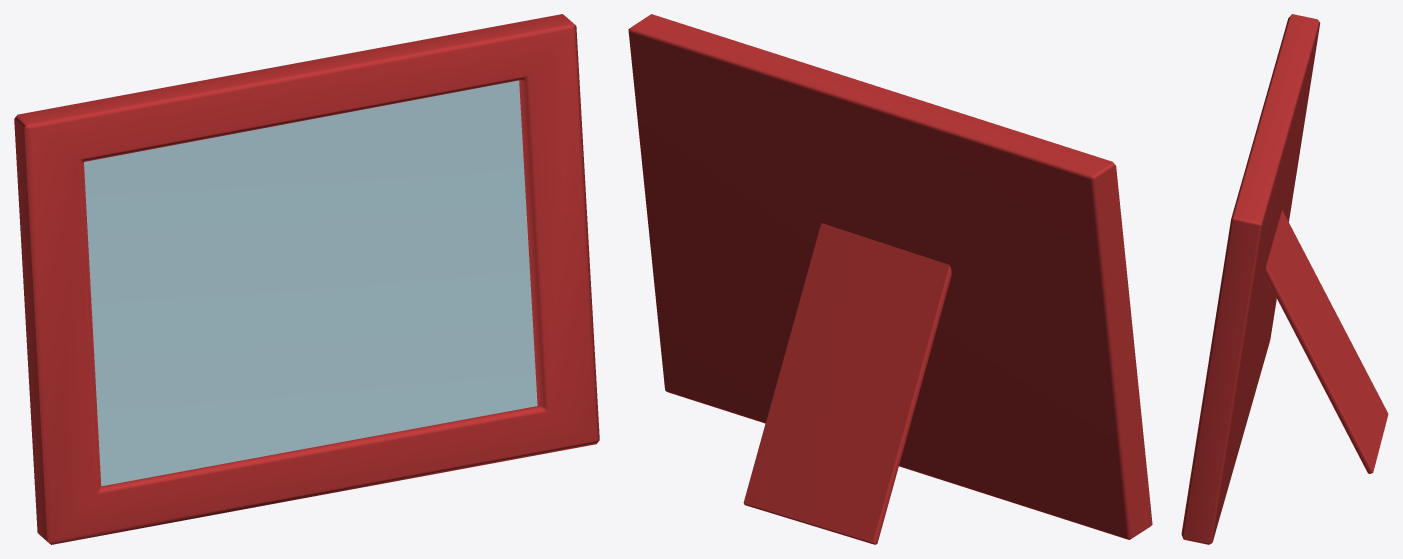
The model's file is Photoframe_3.glb.
The picture shows the model from 3 angles, left to right: view 1: azimuth 30°, elevation 25°; view 2: azimuth 150°, elevation 25°; view 3: azimuth 270°, elevation 25°; orthographic projection. The views are drawn at different scales.
Parts seen in each view (by area): view 1: Photoframe_3; view 2: Photoframe_3; view 3: Photoframe_3.
Part boxes in pixels (<box>): Photoframe_3: <box>14,14,599,544</box>; Photoframe_3: <box>628,14,1152,544</box>; Photoframe_3: <box>1181,14,1388,544</box>.
Size of the model in its own units: 0.3078 by 0.2236 by 0.127.
1 material, 1 textured.
